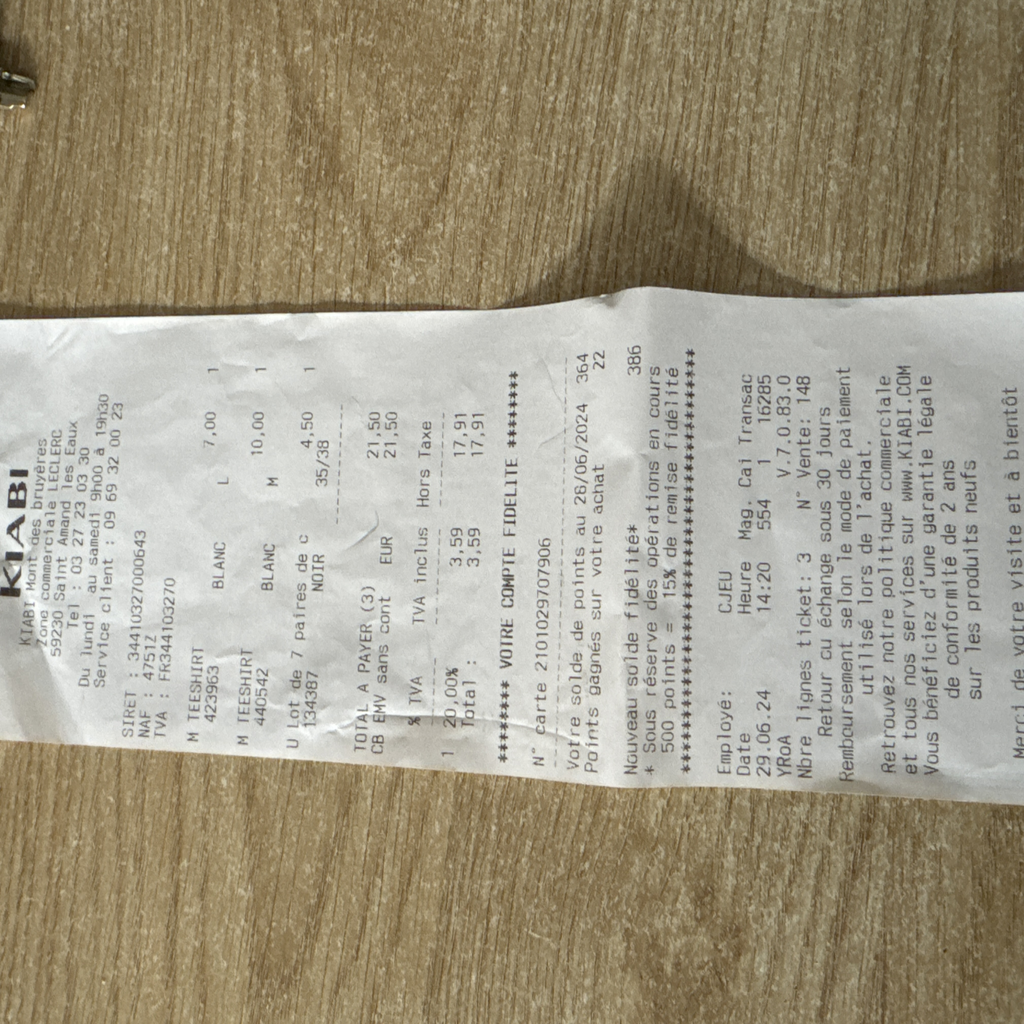recipt: (0, 283, 1024, 810)
